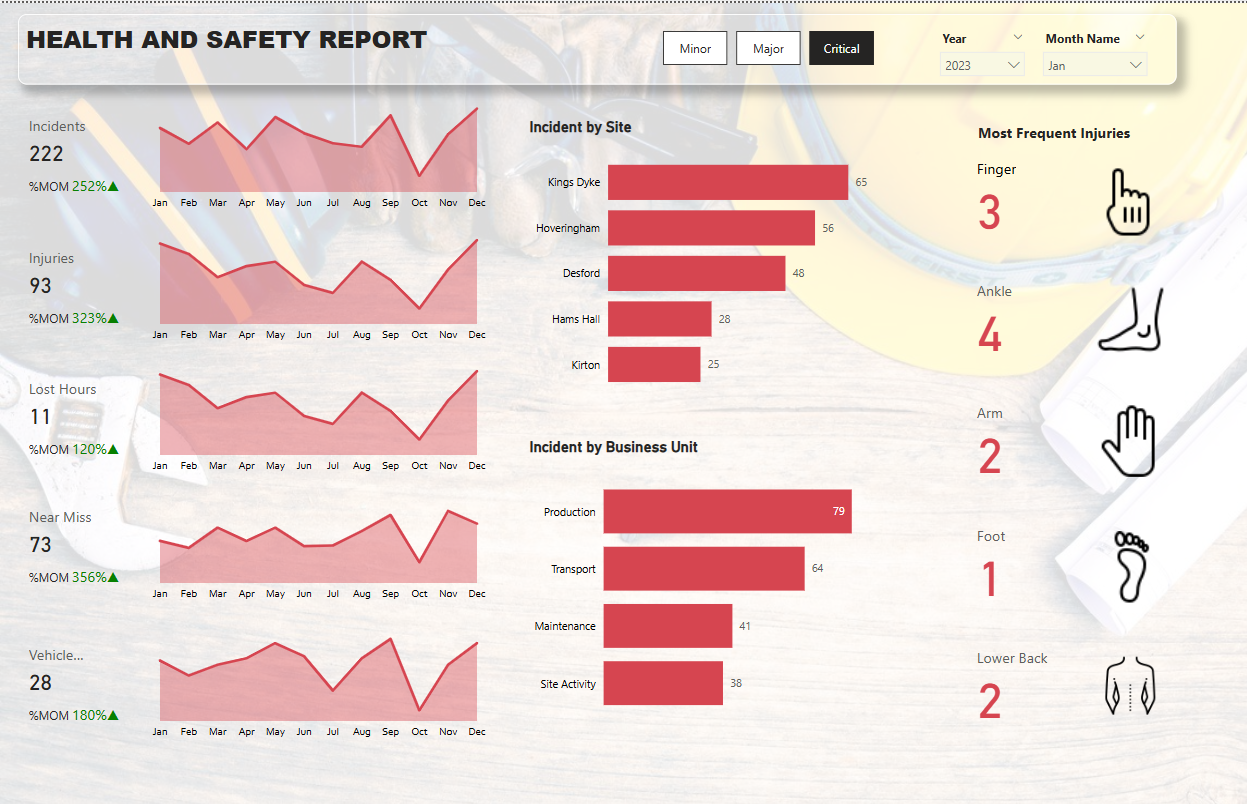

The page's visual inventory and layout, read from the dashboard file:
{"tool":"powerbi","page":{"name":"Critical","canvas":[1400,900],"ordinal":2},"visuals":[{"type":"textbox","box":[20.2,12.5,1297.1,78.8],"z":0},{"type":"cardVisual","fields":{"Data":["_measure.Total Incident"]},"box":[20,101.2,141.2,138.8],"z":0,"group":"g3"},{"type":"cardVisual","fields":{"Data":["CountNonNull(heath.Most Frequent Injury)"]},"box":[1081.2,162.4,235.3,105.9],"z":0,"group":"g6"},{"type":"cardVisual","fields":{"Data":["_measure.Total Injury"]},"box":[20,248.2,141.2,138.8],"z":0,"group":"g2"},{"type":"cardVisual","fields":{"Data":["_measure.Total Lost Hours"]},"box":[20,395.3,141.2,138.8],"z":0,"group":"g4"},{"type":"cardVisual","fields":{"Data":["_measure.Total Near Miss"]},"box":[20,540,141.2,137.6],"z":0,"group":"g5"},{"type":"cardVisual","fields":{"Data":["_measure.Total Vehicle Incidents"]},"box":[20,692.9,141.2,138.8],"z":0,"group":"g1"},{"type":"slicer","fields":{"Values":["date.MonthName"]},"box":[1157.7,26,136.5,150],"z":1000},{"type":"areaChart","title":"Total Incident by Month","fields":{"Y":["_measure.Total Incident"],"Category":["date.MonthName"]},"box":[161.2,101.2,390.6,138.8],"z":1000,"group":"g3"},{"type":"areaChart","title":"Total Injuries by Month","fields":{"Category":["date.MonthName"],"Y":["_measure.Total Injury"]},"box":[161.2,248.2,390.6,138.8],"z":1000,"group":"g2"},{"type":"cardVisual","fields":{"Data":["CountNonNull(heath.Most Frequent Injury)"]},"box":[1081.2,299.2,236.5,105.9],"z":1000,"group":"g6"},{"type":"areaChart","title":"Total Injuries by Month","fields":{"Category":["date.MonthName"],"Y":["_measure.Total Injury"]},"box":[161.2,395.3,390.6,138.8],"z":1000,"group":"g4"},{"type":"areaChart","title":"Total Lost Hours by Month","fields":{"Category":["date.MonthName"],"Y":["_measure.Total Near Miss"]},"box":[161.2,538.8,390.6,138.8],"z":1000,"group":"g5"},{"type":"areaChart","title":"Total Vehicle Incidents by Month","fields":{"Category":["date.MonthName"],"Y":["_measure.Total Vehicle Incidents"]},"box":[161.2,692.9,390.6,138.8],"z":1000,"group":"g1"},{"type":"slicer","fields":{"Values":["date.Year"]},"box":[1042.3,26,115.4,150],"z":2000},{"type":"cardVisual","fields":{"Data":["CountNonNull(heath.Most Frequent Injury)"]},"box":[1081.2,435.9,236.5,105.9],"z":2000,"group":"g6"},{"type":"cardVisual","fields":{"Data":["CountNonNull(heath.Most Frequent Injury)"]},"box":[1081.2,572.7,236.5,105.9],"z":3000,"group":"g6"},{"type":"group","id":"g1","title":"Group 1","box":[20,692.9,531.8,138.8],"z":3000},{"type":"group","id":"g2","title":"Group 4","box":[20,248.2,531.8,138.8],"z":4000},{"type":"cardVisual","fields":{"Data":["CountNonNull(heath.Most Frequent Injury)"]},"box":[1081.2,709.5,236.5,105.9],"z":4000,"group":"g6"},{"type":"group","id":"g3","title":"Group 5","box":[20,101.2,531.8,138.8],"z":5000},{"type":"clusteredBarChart","title":"Incident by  Site","fields":{"Y":["_measure.Total Incident"],"Category":["heath. Site"]},"box":[588.2,128.2,390.6,322.4],"z":6000},{"type":"clusteredBarChart","title":"Incident by  Business Unit","fields":{"Y":["_measure.Total Incident"],"Category":["heath.Business Unit"]},"box":[588.2,487.1,390.6,331.8],"z":7000},{"type":"textbox","box":[1042.4,128.2,275.3,34.1],"z":8000},{"type":"group","id":"g4","title":"Group 2","box":[20,395.3,531.8,138.8],"z":9000},{"type":"group","id":"g5","title":"Group 3","box":[20,538.8,531.8,138.8],"z":10000},{"type":"group","id":"g6","title":"Group 6","box":[1081.2,162.4,236.5,652.9],"z":11000},{"type":"pageNavigator","box":[742.4,31.8,236.5,38.8],"z":12000}]}

Visuals, with their boxes in screenshot pixels (x1, y1, x2, y2), scaled from the page's 1400x900 canvas onto the 1247x804 screenshot:
textbox: <region>18, 11, 1173, 82</region>
cardVisual - _measure.Total Incident: <region>18, 90, 144, 214</region>
cardVisual - CountNonNull(heath.Most Frequent Injury): <region>963, 145, 1173, 240</region>
cardVisual - _measure.Total Injury: <region>18, 222, 144, 346</region>
cardVisual - _measure.Total Lost Hours: <region>18, 353, 144, 477</region>
cardVisual - _measure.Total Near Miss: <region>18, 482, 144, 605</region>
cardVisual - _measure.Total Vehicle Incidents: <region>18, 619, 144, 743</region>
slicer - date.MonthName: <region>1031, 23, 1153, 157</region>
"Total Incident by Month" areaChart: <region>144, 90, 491, 214</region>
"Total Injuries by Month" areaChart: <region>144, 222, 491, 346</region>
cardVisual - CountNonNull(heath.Most Frequent Injury): <region>963, 267, 1174, 362</region>
"Total Injuries by Month" areaChart: <region>144, 353, 491, 477</region>
"Total Lost Hours by Month" areaChart: <region>144, 481, 491, 605</region>
"Total Vehicle Incidents by Month" areaChart: <region>144, 619, 491, 743</region>
slicer - date.Year: <region>928, 23, 1031, 157</region>
cardVisual - CountNonNull(heath.Most Frequent Injury): <region>963, 389, 1174, 484</region>
cardVisual - CountNonNull(heath.Most Frequent Injury): <region>963, 512, 1174, 606</region>
"Group 1" group: <region>18, 619, 491, 743</region>
"Group 4" group: <region>18, 222, 491, 346</region>
cardVisual - CountNonNull(heath.Most Frequent Injury): <region>963, 634, 1174, 728</region>
"Group 5" group: <region>18, 90, 491, 214</region>
"Incident by  Site" clusteredBarChart: <region>524, 115, 872, 403</region>
"Incident by  Business Unit" clusteredBarChart: <region>524, 435, 872, 732</region>
textbox: <region>928, 115, 1174, 145</region>
"Group 2" group: <region>18, 353, 491, 477</region>
"Group 3" group: <region>18, 481, 491, 605</region>
"Group 6" group: <region>963, 145, 1174, 728</region>
pageNavigator: <region>661, 28, 872, 63</region>
